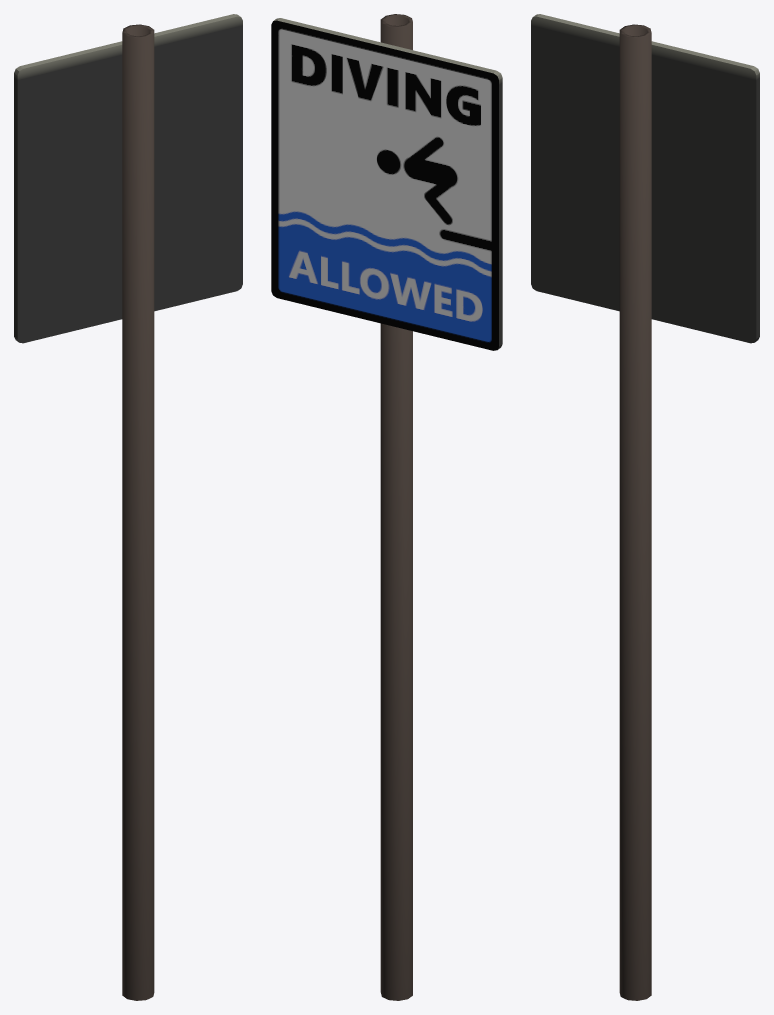
File: diving_sign.glb
3 views of the same model, side by side, from view 1: azimuth 30°, elevation 25°; view 2: azimuth 150°, elevation 25°; view 3: azimuth 330°, elevation 25° (orthographic).
Parts seen in each view (by area): view 1: Plane; view 2: Plane; view 3: Plane.
Boxes of the visible parts, x1=… form: Plane: x1=14, y1=14, x2=242, y2=1000; Plane: x1=271, y1=14, x2=502, y2=1000; Plane: x1=531, y1=14, x2=759, y2=1000.
Bounding box in the file's own units: 0.4262 × 1.74 × 0.0647.
Materials: 1 (1 with a texture image).
